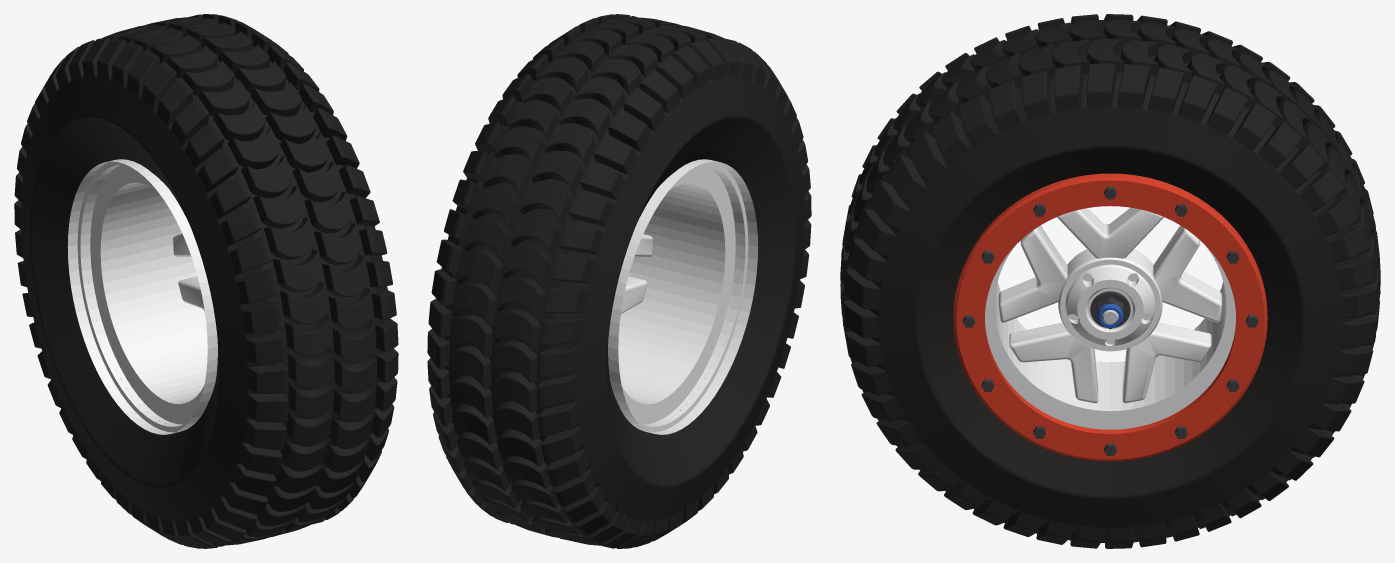
The model's file is traxxas_6873T_wheel_L.dae.
3 views of the same model, side by side, from view 1: azimuth 30°, elevation 25°; view 2: azimuth 150°, elevation 25°; view 3: azimuth 270°, elevation 25° (orthographic). The views are drawn at different scales.
Visible parts, largest first — view 1: Tire_Carcass, Wheel_Barrel, Tread_UnitMesh_L.016, Tread_UnitMesh_L.009, Tread_UnitMesh_L.011, Tread_UnitMesh_L.018, Tread_UnitMesh_L.006, Tread_UnitMesh_L.022, Tread_UnitMesh_L.020, Tread_UnitMesh_L, Tread_UnitMesh_L.017, Tread_UnitMesh_L.003 (+7 smaller); view 2: Tire_Carcass, Wheel_Barrel, Tread_UnitMesh_L.004, Tread_UnitMesh_L.005, Tread_UnitMesh_L.008, Tread_UnitMesh_L.014, Tread_UnitMesh_L.007, Tread_UnitMesh_L.010, Tread_UnitMesh_L.001, Tread_UnitMesh_L.017, Tread_UnitMesh_L.002, Tread_UnitMesh_L.020 (+7 smaller); view 3: Tire_Carcass, Cylinder_001, Spoke_0, Wheel_Barrel, Cylinder, Tread_UnitMesh_L.017, Tread_UnitMesh_L.020, Tread_UnitMesh_L.010, Tread_UnitMesh_L.006, Tread_UnitMesh_L.014, Tread_UnitMesh_L.009, Tread_UnitMesh_L.004 (+19 smaller).
Boxes of the visible parts, box(x1,y1,x2,y2) form: Tire_Carcass: box(21, 46, 390, 521); Wheel_Barrel: box(67, 159, 217, 434); Tread_UnitMesh_L.016: box(236, 249, 396, 334); Tread_UnitMesh_L.009: box(197, 127, 370, 218); Tread_UnitMesh_L.011: box(220, 185, 387, 275); Tread_UnitMesh_L.018: box(245, 314, 398, 393); Tread_UnitMesh_L.006: box(171, 79, 347, 168); Tread_UnitMesh_L.022: box(243, 377, 397, 449); Tread_UnitMesh_L.020: box(142, 44, 319, 126); Tread_UnitMesh_L: box(231, 428, 389, 496); Tread_UnitMesh_L.017: box(112, 21, 288, 96); Tread_UnitMesh_L.003: box(212, 476, 367, 529); Tire_Carcass: box(441, 43, 804, 522); Wheel_Barrel: box(608, 159, 757, 434); Tread_UnitMesh_L.004: box(452, 151, 613, 256); Tread_UnitMesh_L.005: box(428, 269, 582, 382); Tread_UnitMesh_L.008: box(436, 209, 594, 319); Tread_UnitMesh_L.014: box(475, 97, 637, 199); Tread_UnitMesh_L.007: box(427, 329, 579, 440); Tread_UnitMesh_L.010: box(502, 54, 665, 151); Tread_UnitMesh_L.001: box(429, 386, 589, 488); Tread_UnitMesh_L.017: box(533, 26, 694, 113); Tread_UnitMesh_L.002: box(438, 435, 605, 523); Tread_UnitMesh_L.020: box(577, 14, 724, 88); Tire_Carcass: box(869, 33, 1363, 535); Cylinder_001: box(953, 173, 1267, 461); Spoke_0: box(998, 207, 1222, 403); Wheel_Barrel: box(985, 244, 1235, 429); Cylinder: box(1058, 249, 1162, 351); Tread_UnitMesh_L.017: box(1086, 14, 1176, 108); Tread_UnitMesh_L.020: box(1018, 14, 1107, 120); Tread_UnitMesh_L.010: box(1148, 21, 1241, 122); Tread_UnitMesh_L.006: box(956, 25, 1038, 146); Tread_UnitMesh_L.014: box(1206, 44, 1297, 150); Tread_UnitMesh_L.009: box(904, 53, 974, 183); Tread_UnitMesh_L.004: box(1257, 82, 1341, 189).
Size of the model in its own units: 0.0393 by 0.1095 by 0.1095.
